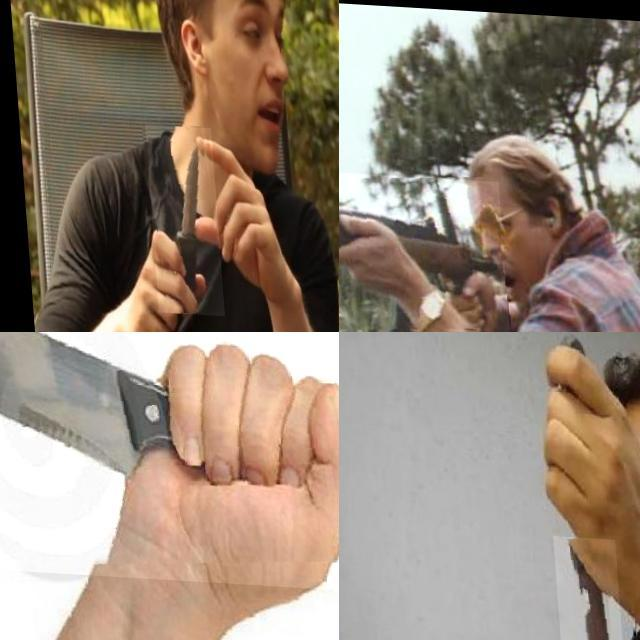-: (0, 332, 339, 584), (140, 123, 218, 314), (547, 532, 625, 640)
gun-knife-thesis - v11 Yolov5 augmented: (339, 163, 505, 332)
